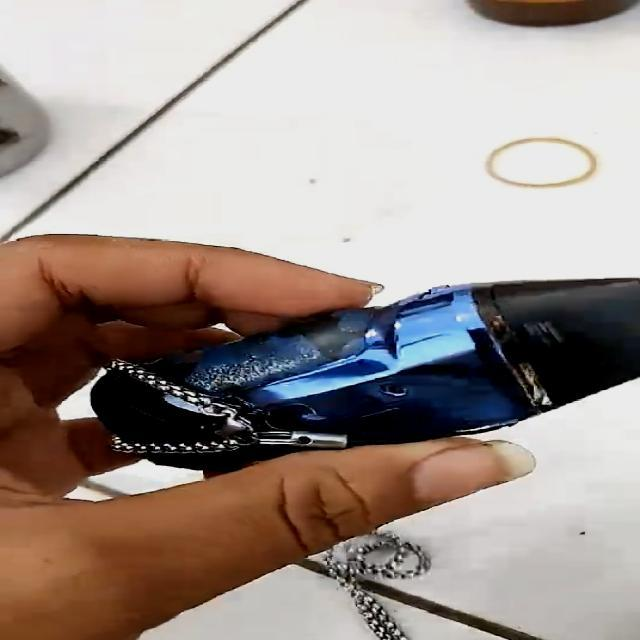Hazard: (87, 278, 640, 472)
